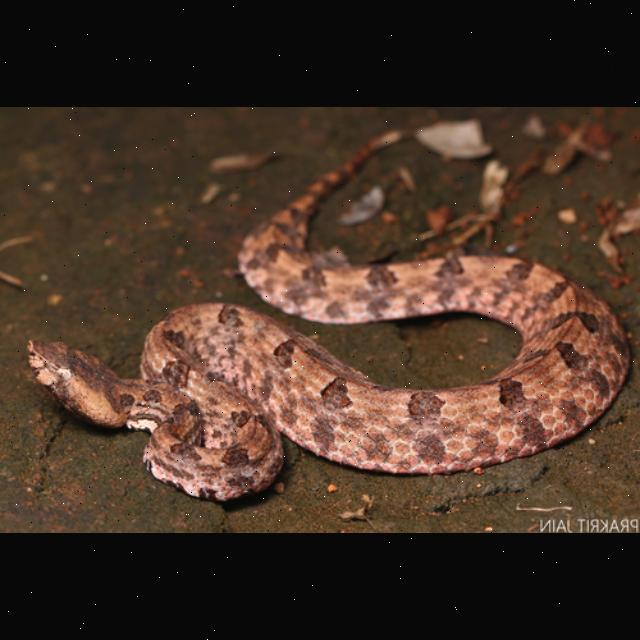snake: (26, 126, 632, 508)
